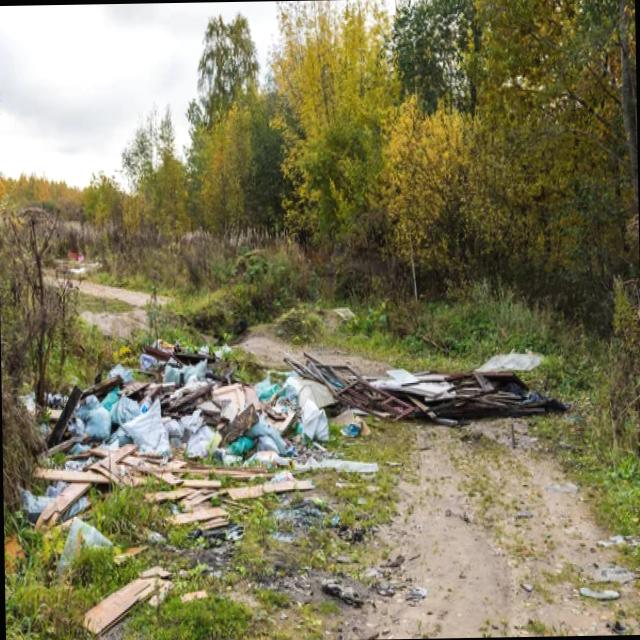garbage: (64, 292, 364, 596)
